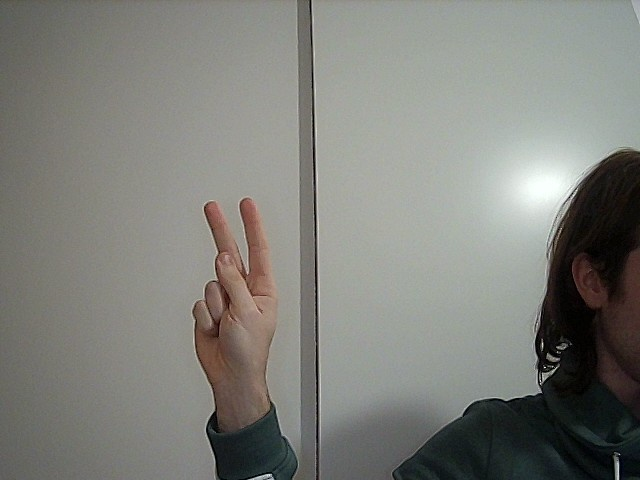k: (165, 190, 296, 371)
